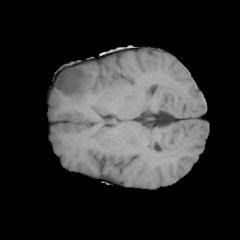glioma: (54, 66, 92, 101)
